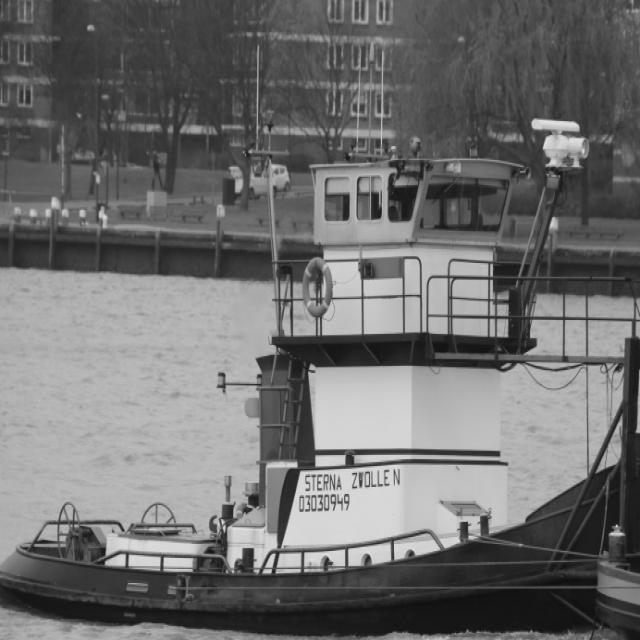tugboat: (1, 111, 640, 640)
